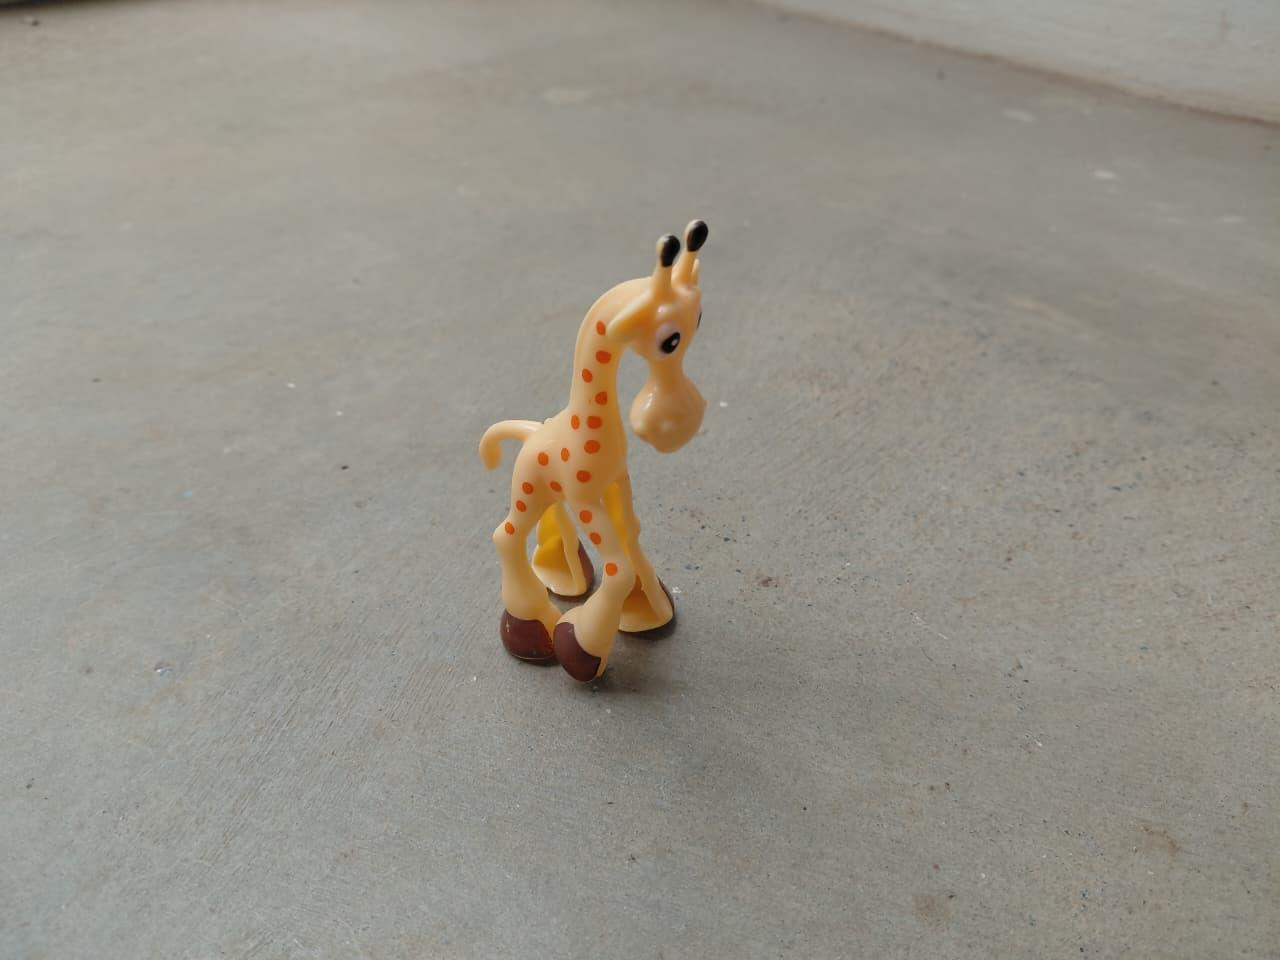giraffe: (468, 223, 739, 697)
